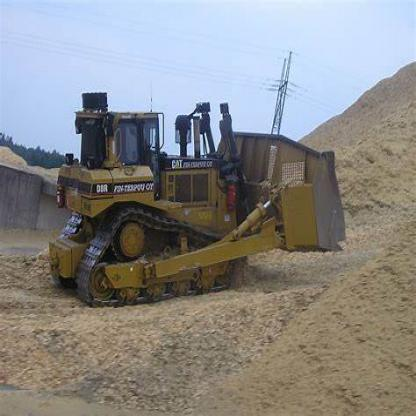bull_dozer/loader/grader: (50, 86, 352, 314)
